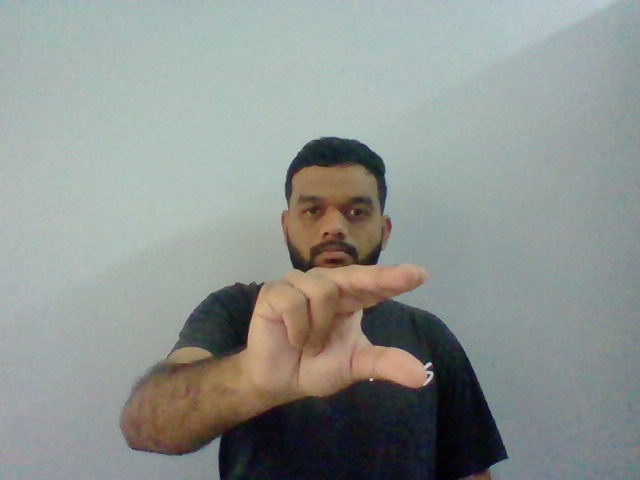No: (247, 263, 429, 397)
